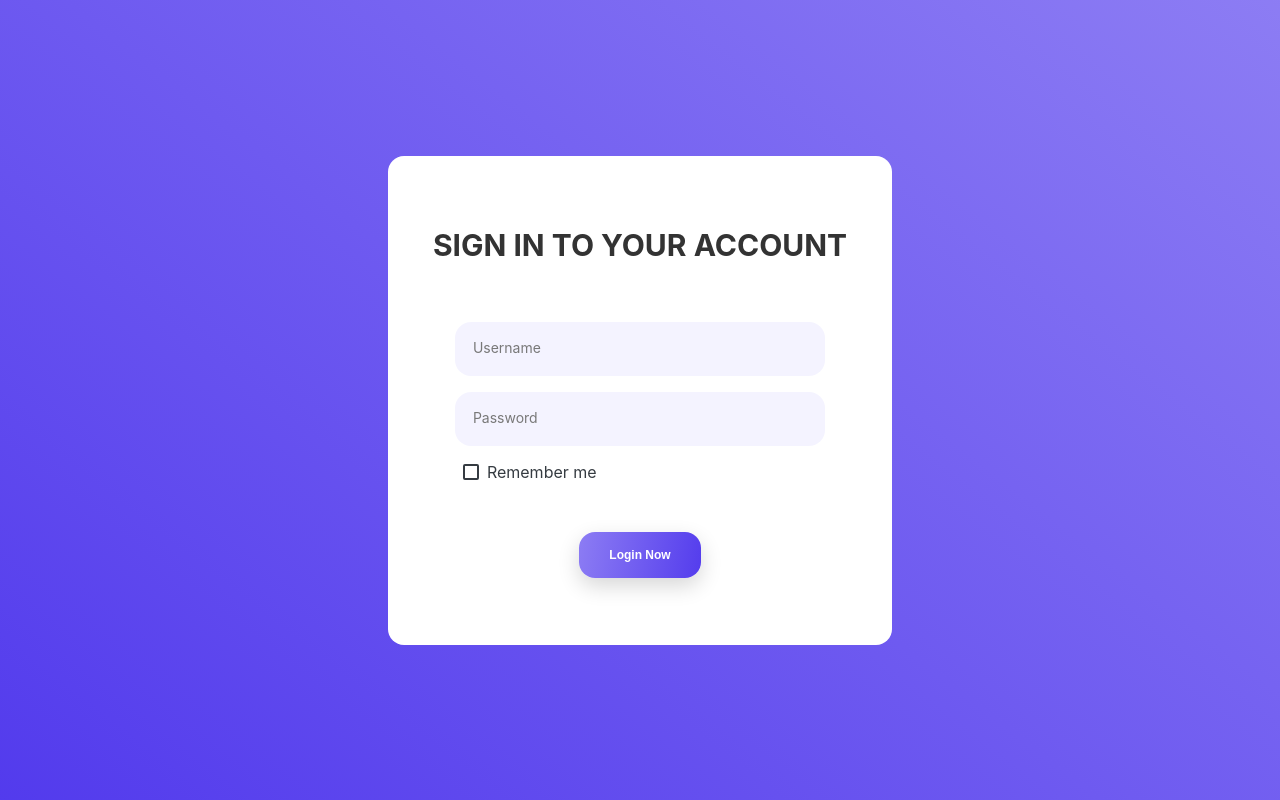
Test: App › should display server errors in the login form
Note: try login
Type "john.doe@example.com" into the field with placeholder "Username" at [640, 348], box [455, 322, 825, 376]
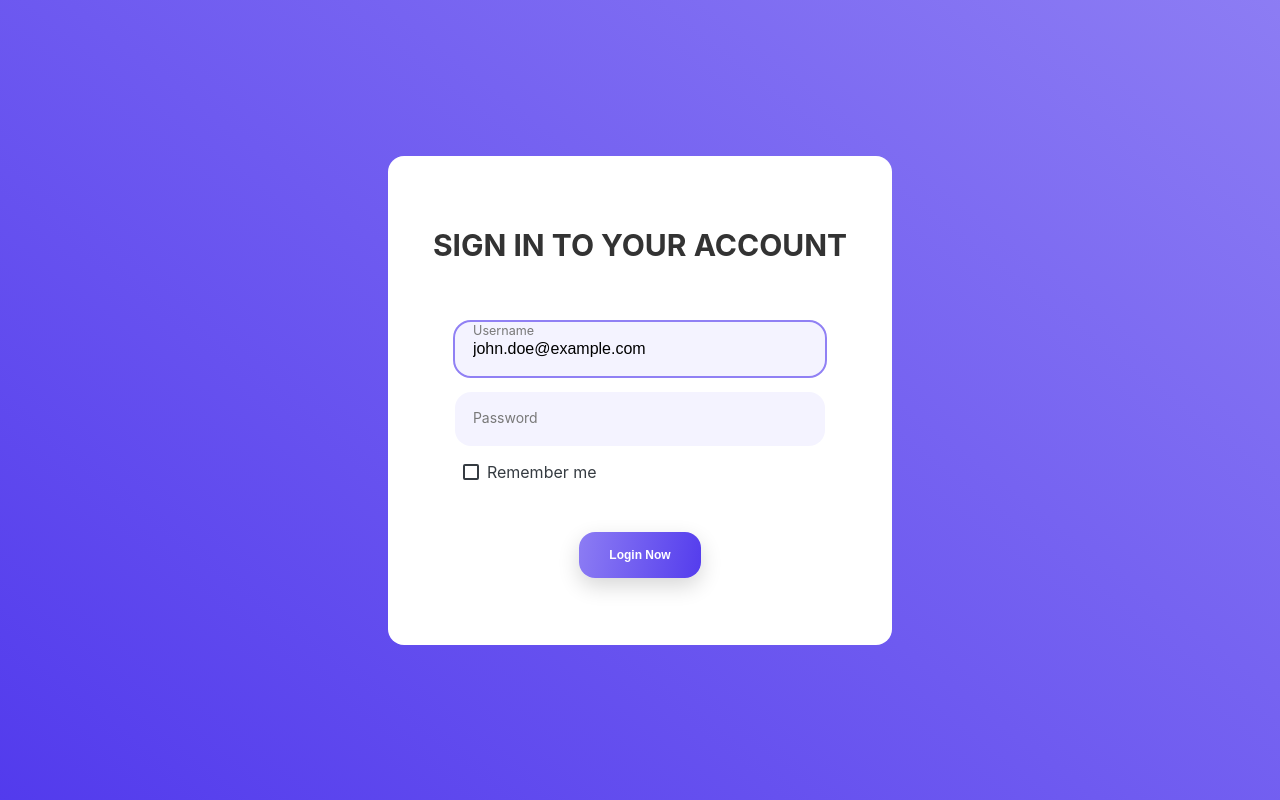
Type "mypassword123" into the password field labelled "Password" at [640, 418], box [455, 392, 825, 446]
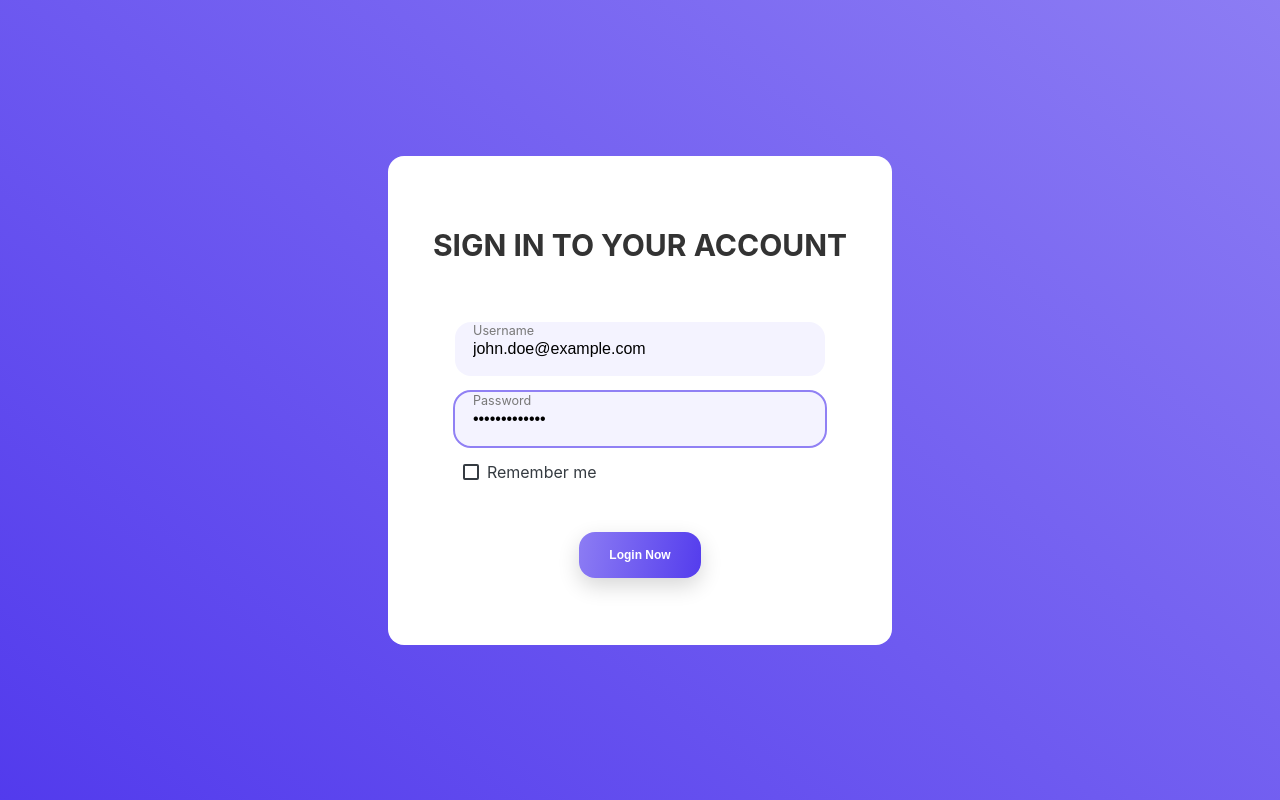
Click the button at [640, 554], box [579, 532, 701, 578]
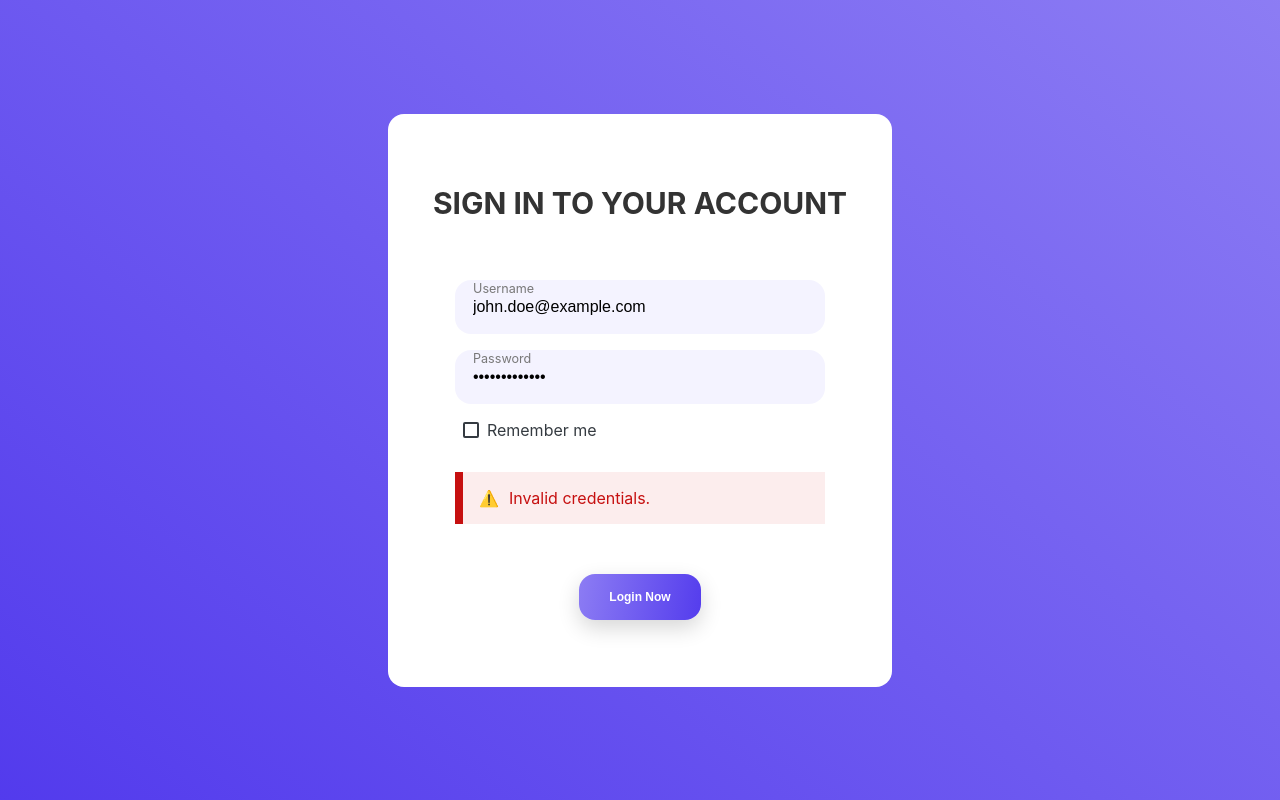
expect the message shows "Invalid credentials": met, box [509, 488, 650, 508]
